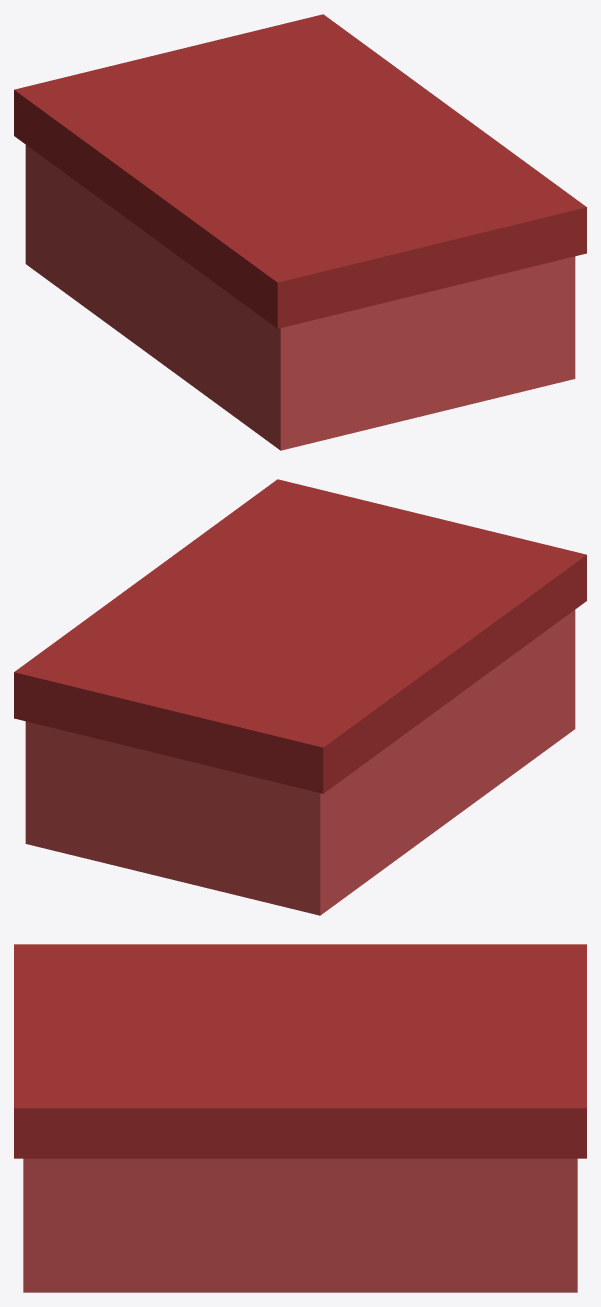
The model's file is Caixa.fbx.
3 views of the same model, one above another, from view 1: azimuth 30°, elevation 25°; view 2: azimuth 150°, elevation 25°; view 3: azimuth 270°, elevation 25° (orthographic). The views are drawn at different scales.
Parts seen in each view (by area): view 1: Cube_1, Cube; view 2: Cube_1, Cube; view 3: Cube_1, Cube.
Boxes of the visible parts, <box> form: Cube_1: <box>14,14,586,328</box>; Cube: <box>25,145,575,450</box>; Cube_1: <box>14,479,586,793</box>; Cube: <box>25,610,575,915</box>; Cube_1: <box>14,944,586,1158</box>; Cube: <box>23,1158,577,1292</box>.
Size of the model in its own units: 210 by 112 by 310.
